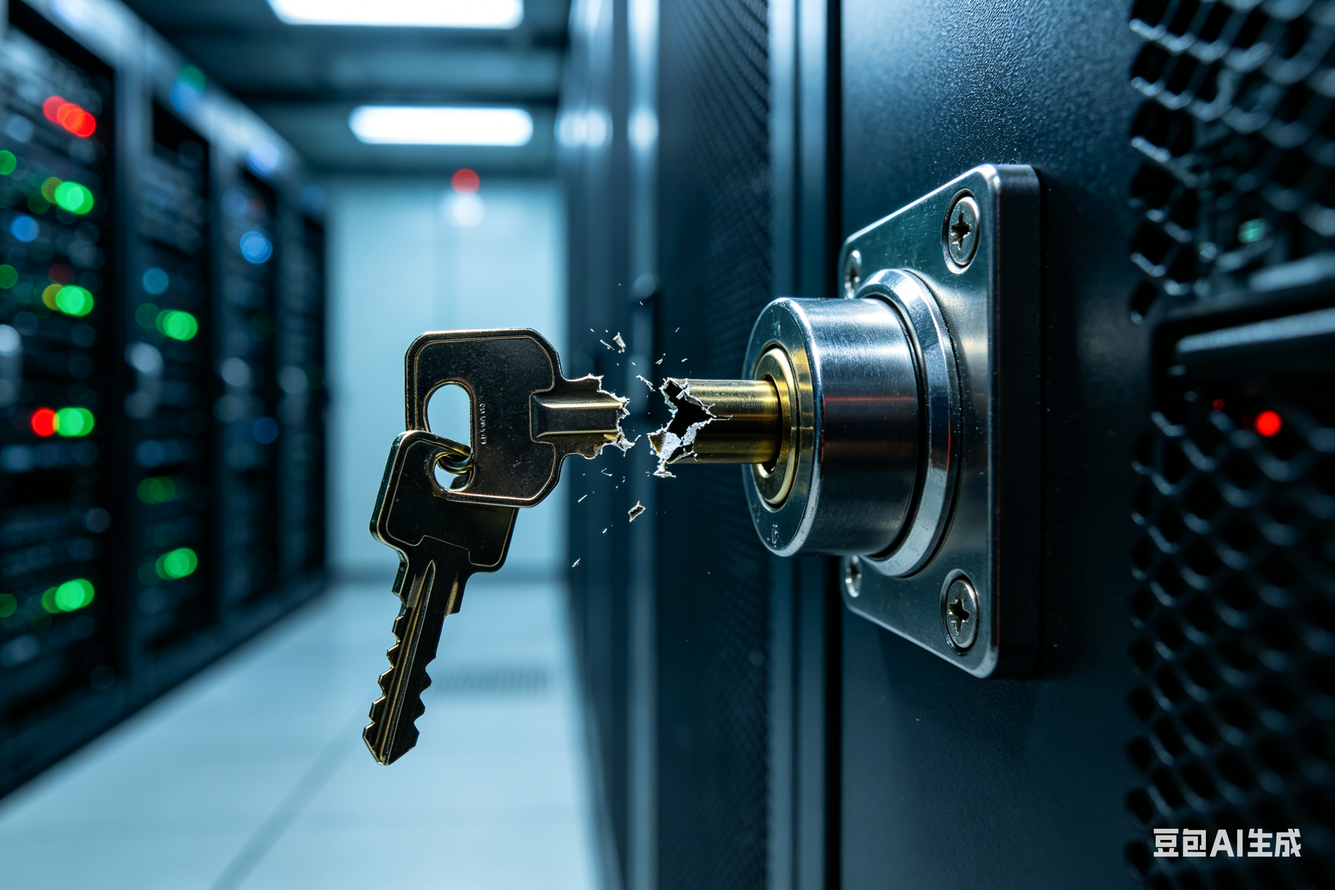BadLock: (545, 351, 818, 470)
